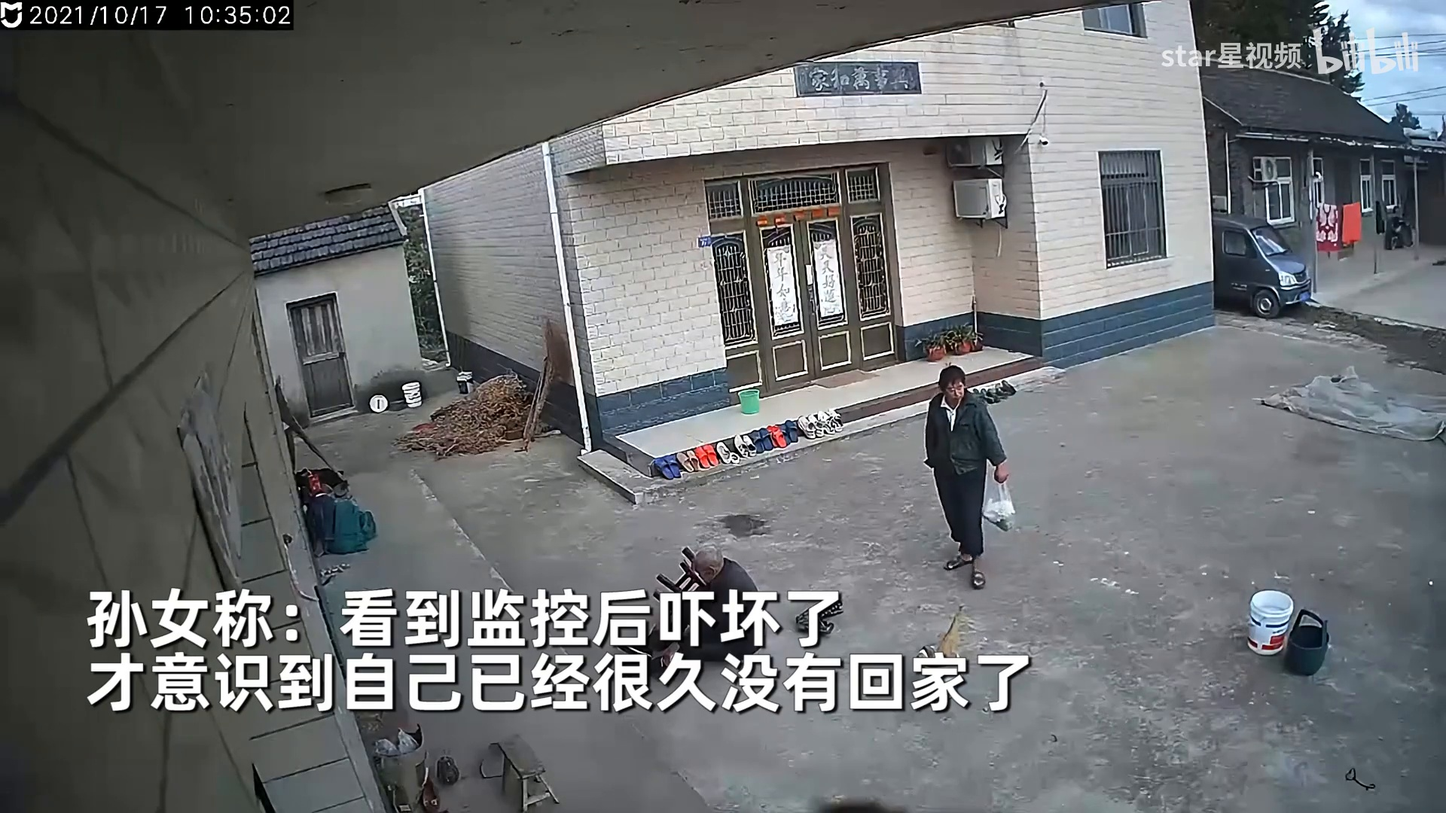half_up: (617, 542, 763, 668)
stand: (923, 364, 1011, 589)
